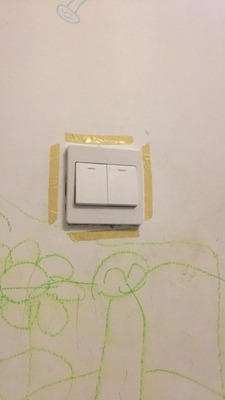switch: (74, 158, 110, 213), (103, 160, 139, 210)
